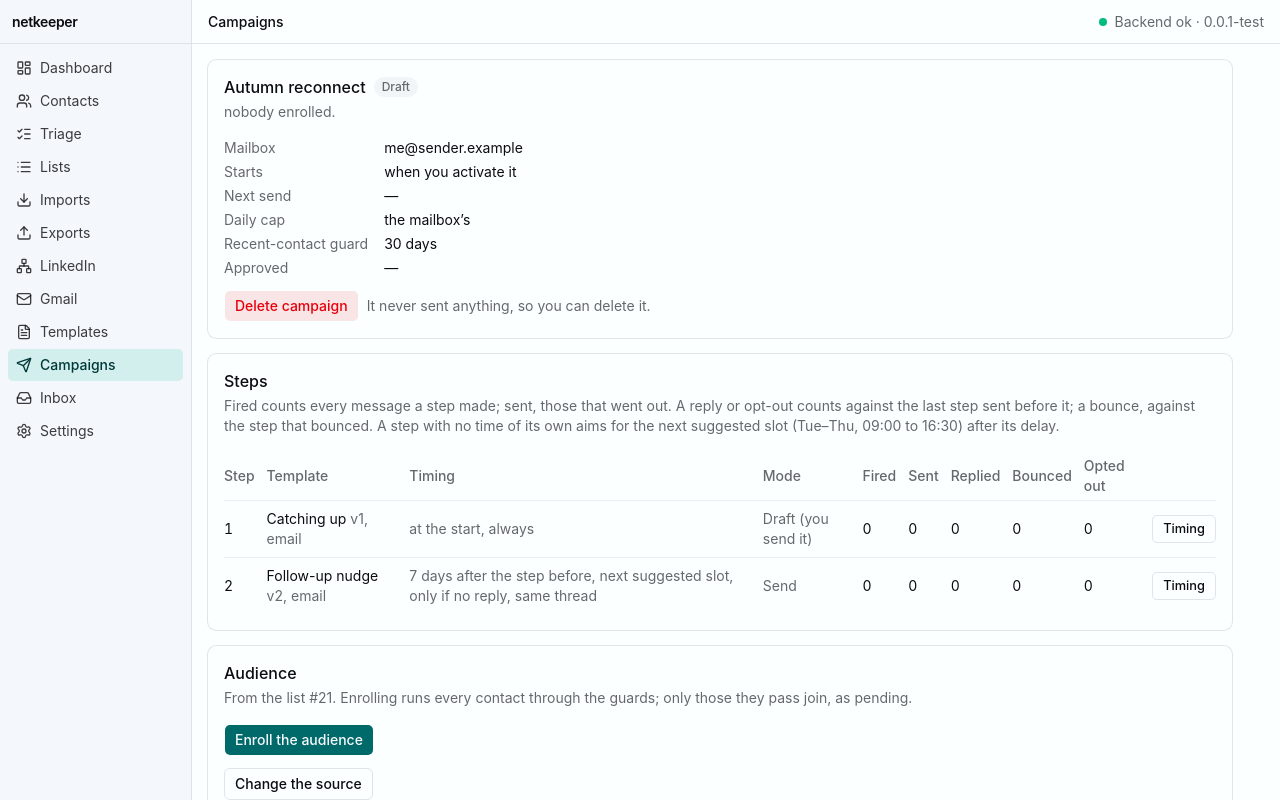
Scenario: campaign lifecycle › deletes a draft after a confirm that lists the Gmail drafts left behind
Check: the navigation bar named "Primary" is shown, box [0, 44, 191, 455]
Click the button "Delete campaign" at (291, 306), box [224, 290, 359, 322]
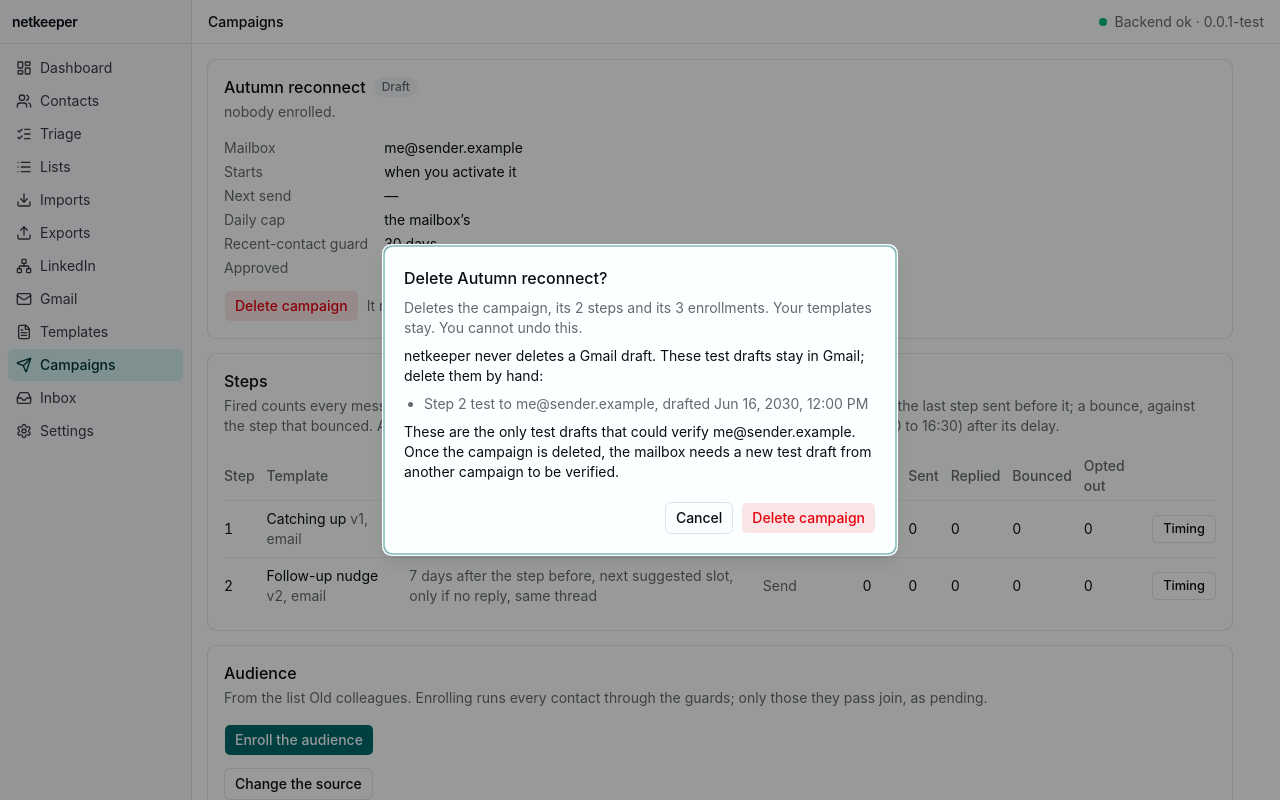
Check: the text "its 2 steps and its 3 enrollments" is shown, box [404, 298, 876, 338]
Check: the list named "Gmail drafts left behind" shows "Step 2 test to me@sender.example", box [404, 394, 876, 414]
Check: the text "never deletes a Gmail draft" is shown, box [404, 347, 864, 384]
Click the button "Delete campaign" at (809, 518), box [741, 502, 876, 534]
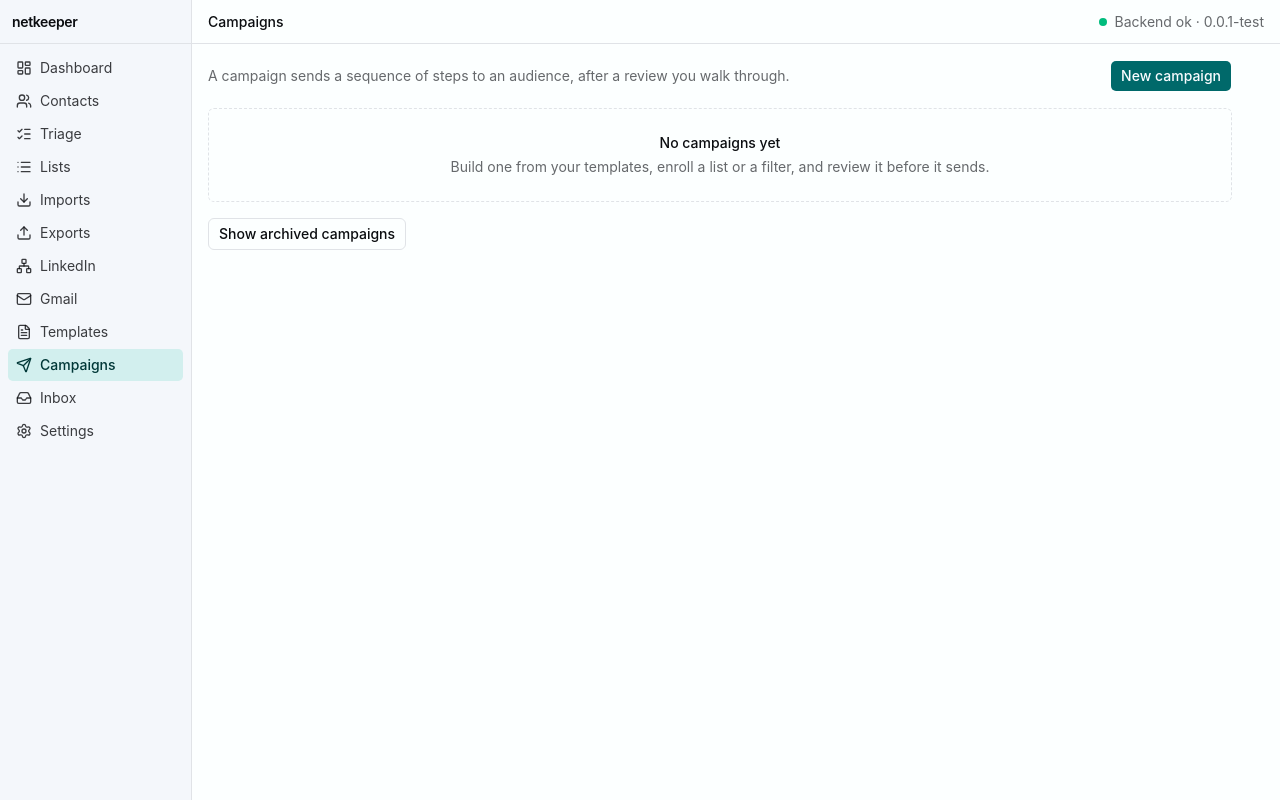
Check: the text "No campaigns yet" is shown, box [660, 134, 780, 151]
